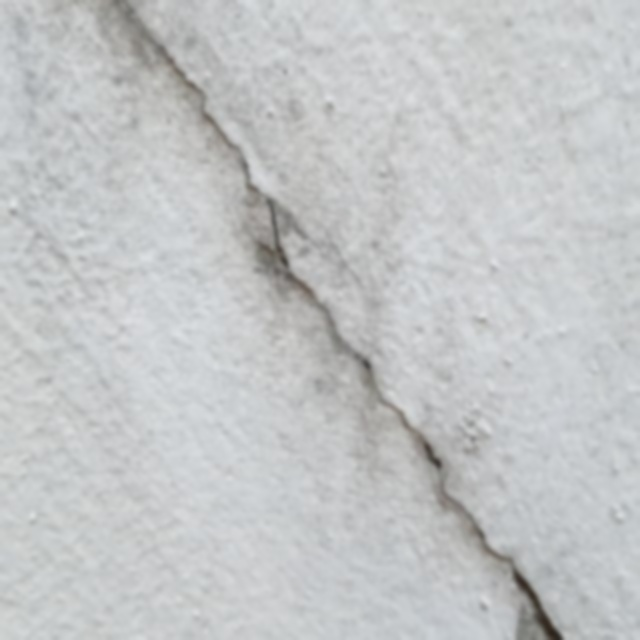SurfaceCrack: (8, 0, 624, 639)
